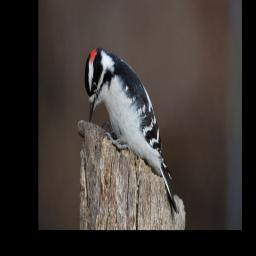Woodpecker: (83, 44, 180, 217)
